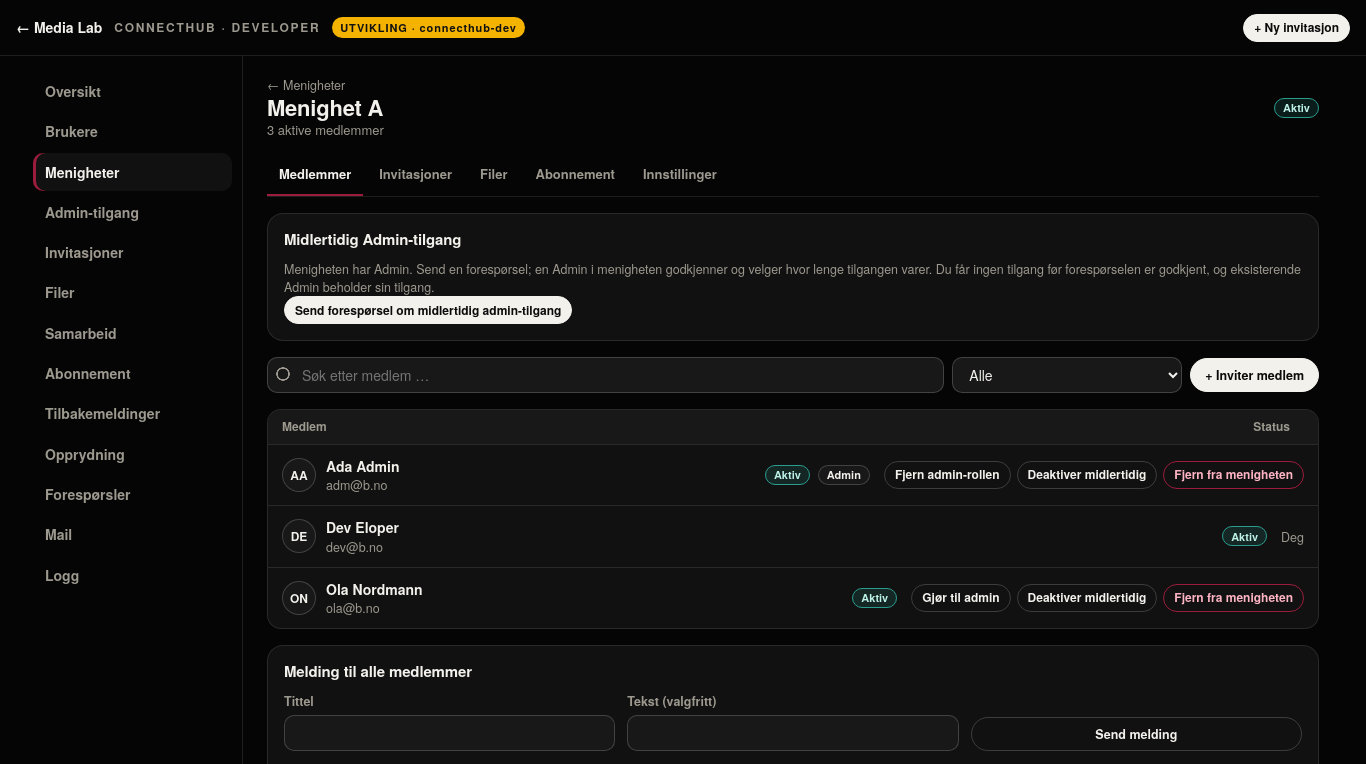
Test: Developer/Moderator: midlertidig Admin-tilgang › menigheten har Admin: forespørselen sendes (ingen varighet – Admin velger)
Click the button "Send forespørsel om midlertidig admin-tilgang": (428, 310) [284,296,572,324]
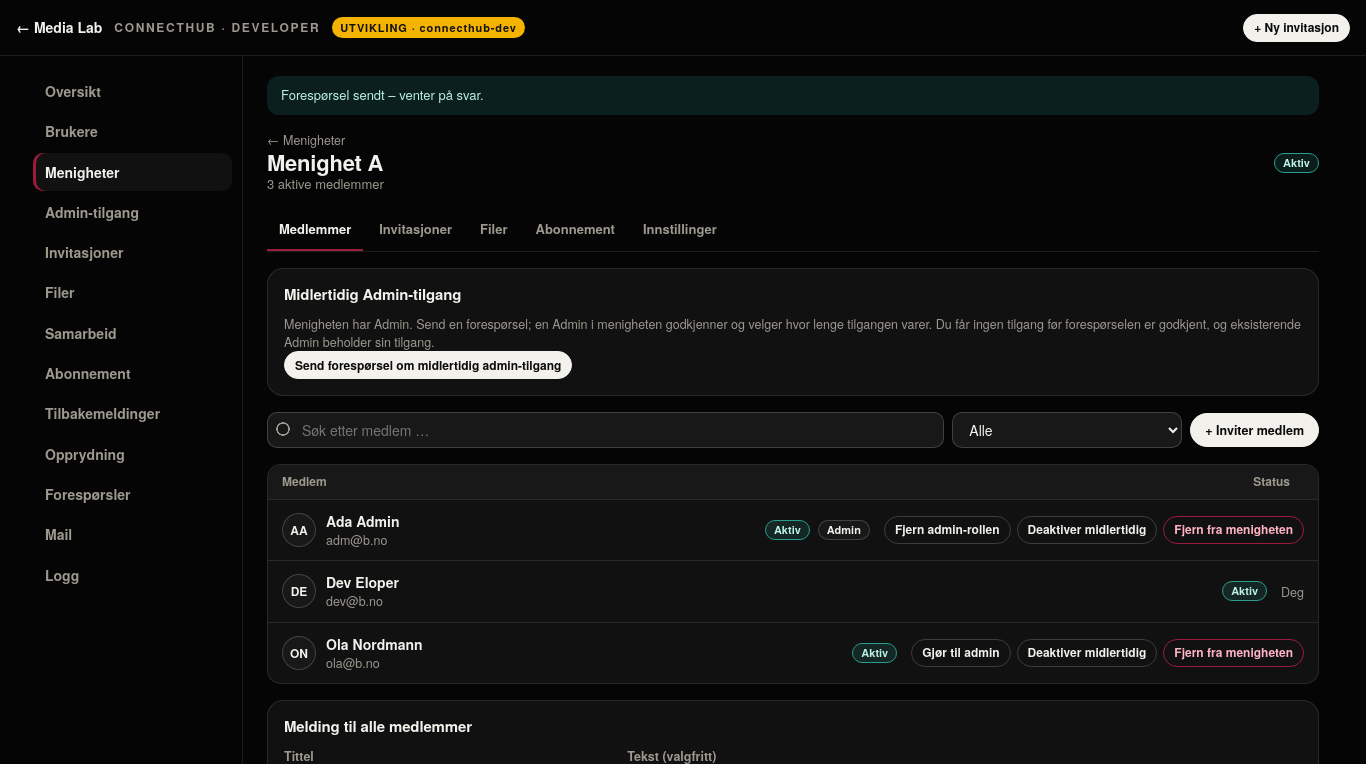
Now the message reads "Forespørsel sendt – venter på svar.", box [281,85,484,104]
